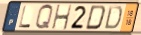2: (70, 5, 88, 30)
D: (84, 5, 107, 31), (103, 5, 123, 31)
H: (51, 4, 73, 31)
L: (17, 5, 32, 29)
Q: (34, 4, 54, 31)
